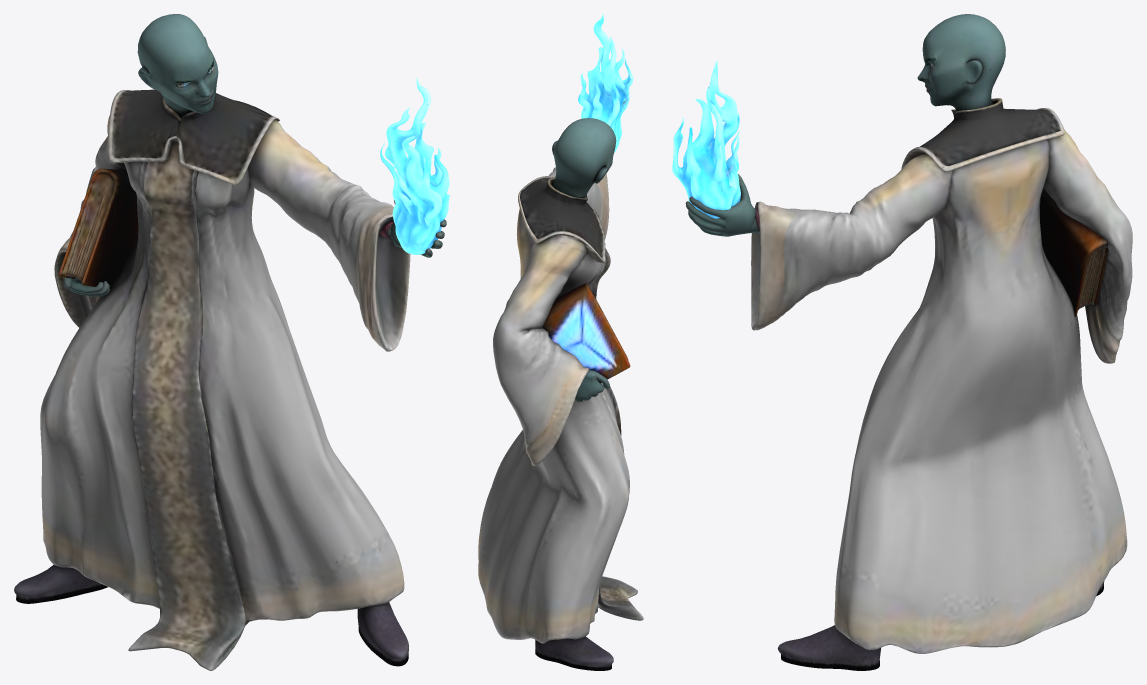
Rendered from MZ4250 - Mage Apprentice Female_2 2025.glb.
The picture shows the model from 3 angles, left to right: view 1: azimuth 30°, elevation 25°; view 2: azimuth 150°, elevation 25°; view 3: azimuth 270°, elevation 25°; orthographic projection. The views are drawn at different scales.
Parts seen in each view (by area): view 1: Body.002; view 2: Body.002; view 3: Body.002.
Part boxes in pixels (x1,y1,x2,y2): Body.002: [14, 14, 449, 670]; Body.002: [478, 14, 643, 670]; Body.002: [672, 14, 1132, 670].
Size of the model in its own units: 40.01 by 88.52 by 62.03.
3 materials, 3 textured.
